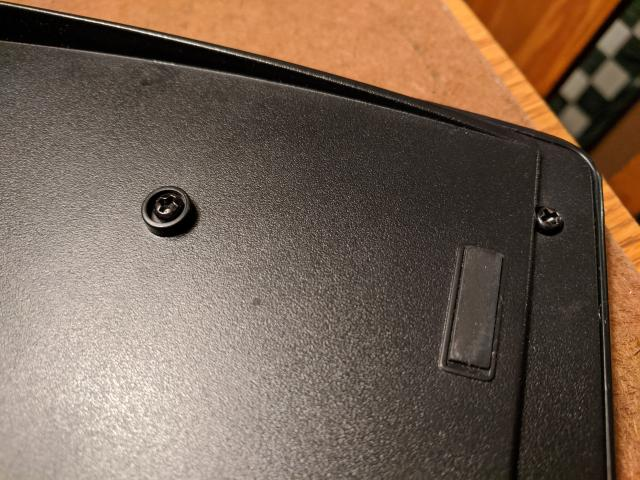CRS: (151, 190, 184, 220), (536, 204, 566, 234)
